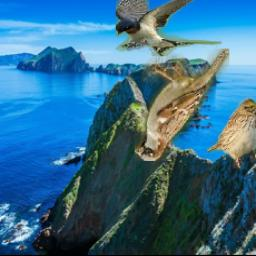Sparrow: (134, 49, 228, 161), (207, 97, 256, 170)
Swallow: (115, 0, 220, 57)
